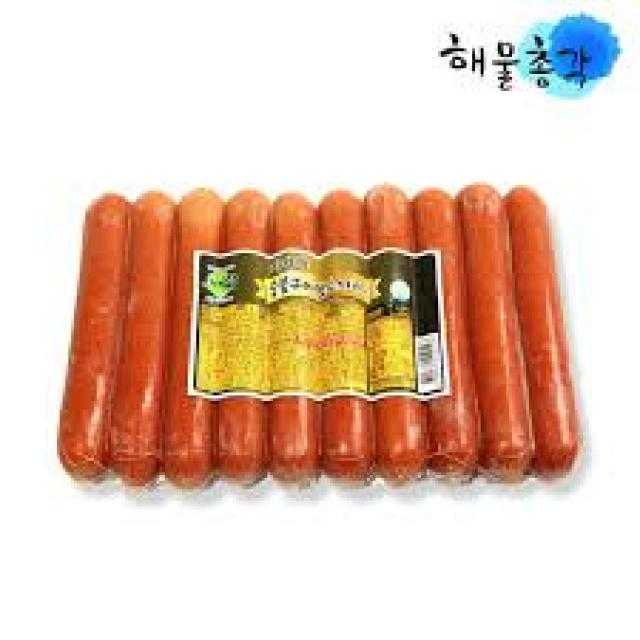sausage: (54, 182, 589, 486)
